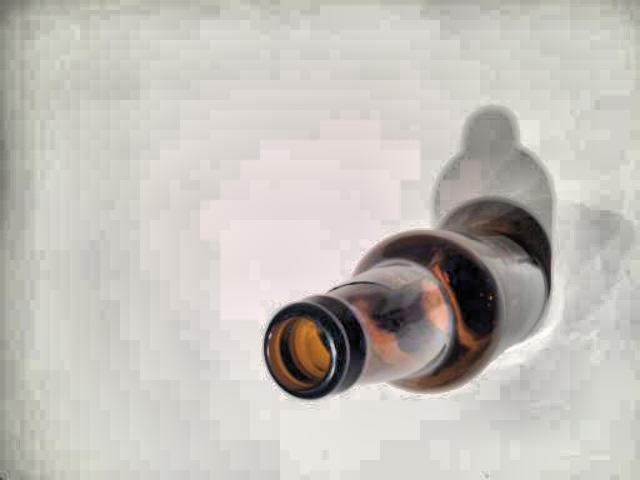Bottles: (250, 214, 522, 415)
